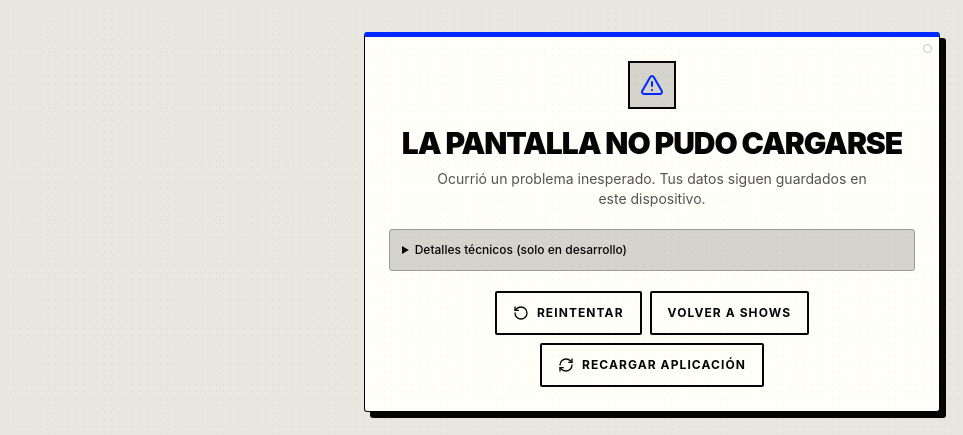
Test: RouteErrorBoundary › 16. "Volver a Shows" navigates in-app via React Router instead of a full reload
The width and height of the screenshot is (963, 435).
Expected: the heading "La pantalla no pudo cargarse" is shown, [389,125,915,161]
Click the button "Volver a Shows".
click(729, 313)  # box [650,291,809,335]
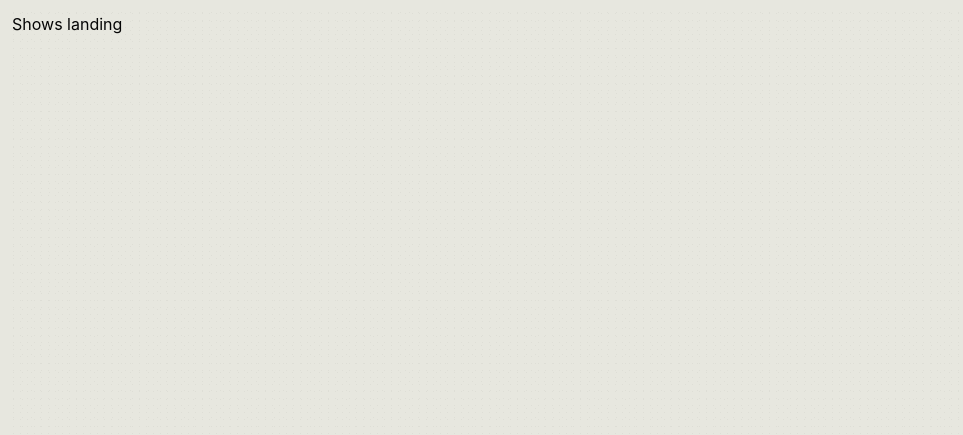
Expected: the text "Shows landing" is shown, [12,14,122,34]
